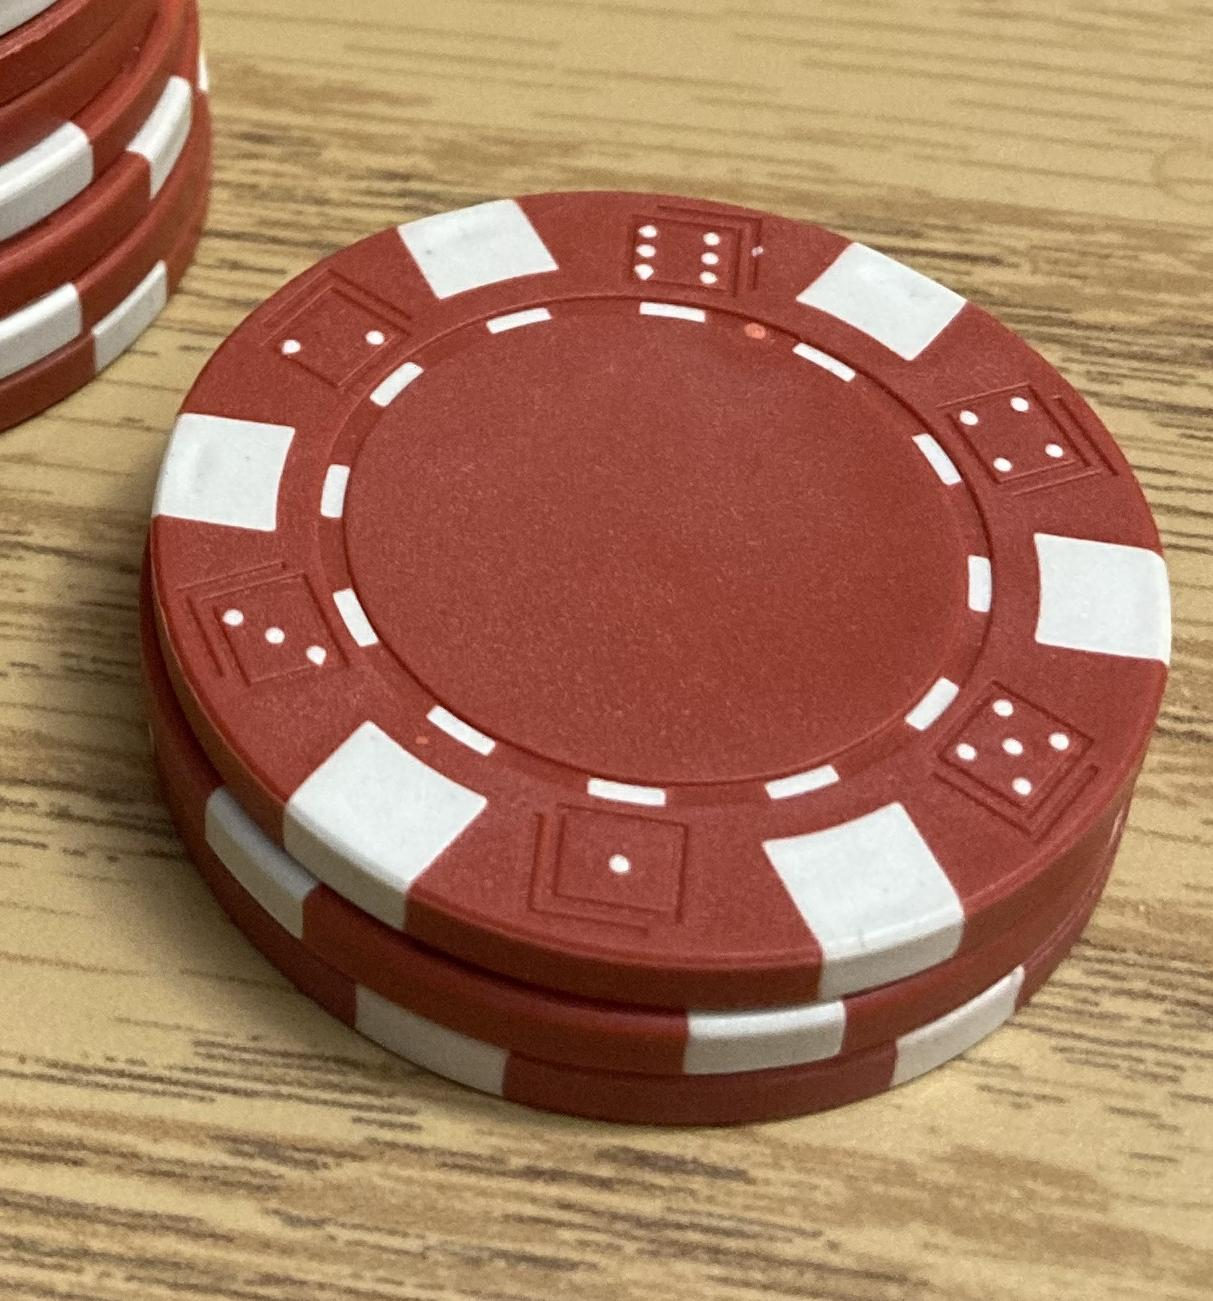Chip: (1, 1, 1213, 1301)
